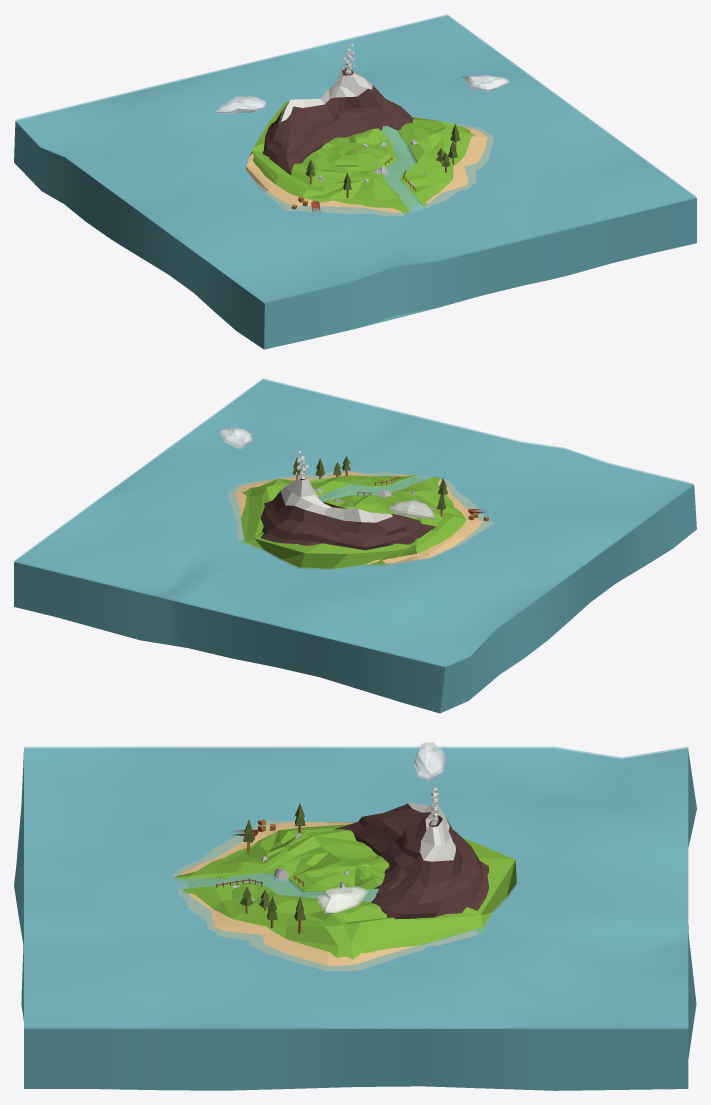
Rendered from island.glb.
3 renders of one model, top to bottom at view 1: azimuth 30°, elevation 25°; view 2: azimuth 150°, elevation 25°; view 3: azimuth 270°, elevation 25°, orthographic. The views are drawn at different scales.
Parts seen in each view (by area): view 1: Mar_e_moto1, Mar_e_moto, pCylinder1, Montanha, pCylinder2, Agua, pCube13, pCube14, pCube42; view 2: Mar_e_moto1, Mar_e_moto, pCylinder1, Montanha, pCylinder2, Agua, pCube13, pCube14, pCube42; view 3: Mar_e_moto1, Mar_e_moto, pCylinder1, Montanha, pCylinder2, Agua, pCube14, pCube13, pCube43, pCube42.
Boxes of the visible parts, x1,y1,x2,y2 form: Mar_e_moto1: (14,16,696,349); Mar_e_moto: (16,14,696,302); pCylinder1: (252,101,474,212); Montanha: (263,68,413,175); pCylinder2: (246,115,493,215); Agua: (382,126,424,213); pCube13: (215,95,265,113); pCube14: (461,74,509,91); pCube42: (218,97,264,112); Mar_e_moto1: (14,380,696,713); Mar_e_moto: (14,378,693,665); pCylinder1: (240,474,466,569); Montanha: (260,478,435,550); pCylinder2: (227,471,494,565); Agua: (318,473,437,501); pCube13: (389,500,436,519); pCube14: (219,427,252,449); pCube42: (391,501,434,517); Mar_e_moto1: (14,748,696,1090); Mar_e_moto: (24,746,688,1027); pCylinder1: (173,824,516,959); Montanha: (334,802,488,919); pCylinder2: (172,820,478,970); Agua: (167,872,378,901); pCube14: (317,886,367,914); pCube13: (414,742,446,780); pCube43: (319,888,364,912); pCube42: (414,744,443,779).
Bounding box in the file's own units: 95.75 × 30.61 × 96.73.
